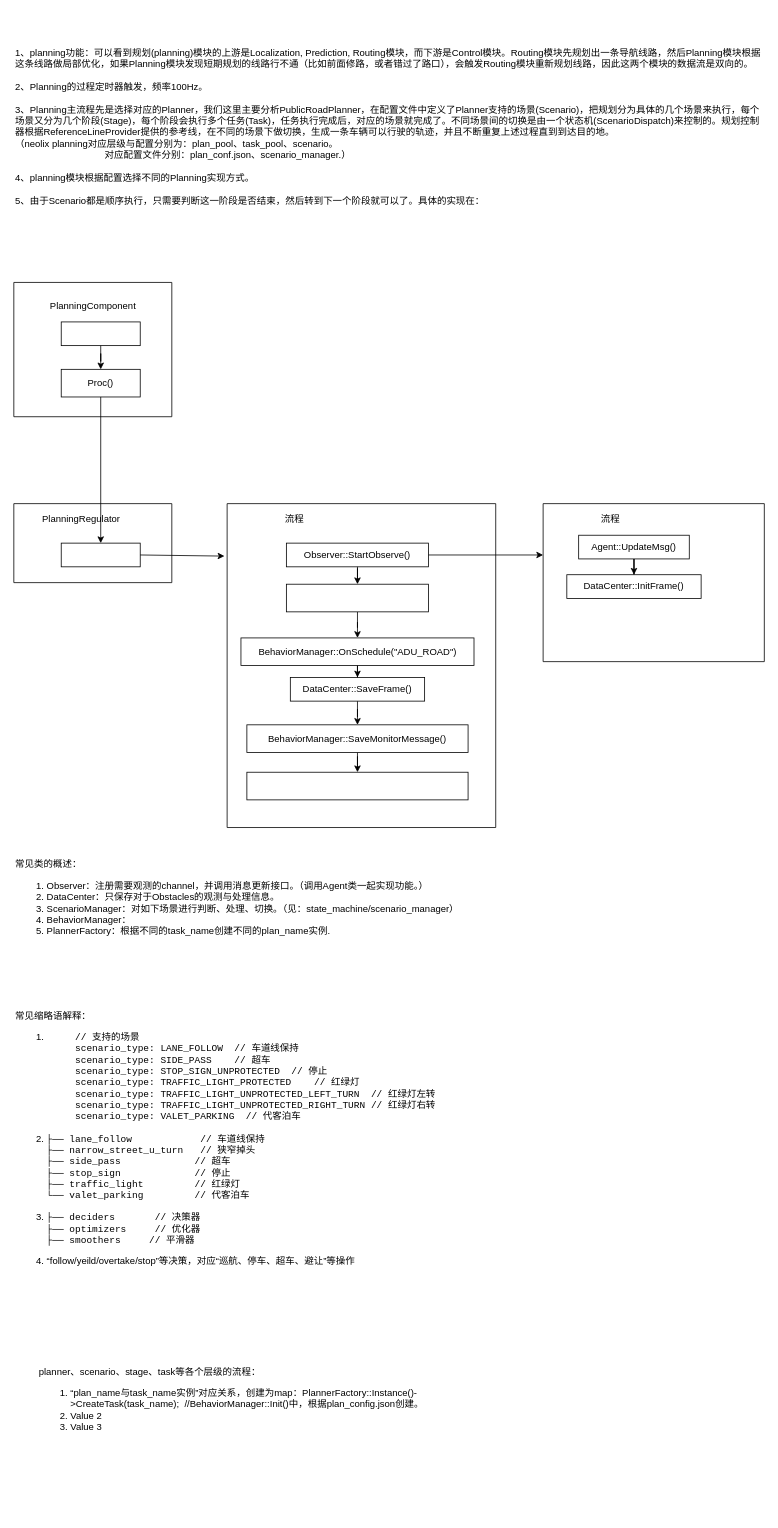
Some shapes in this 778 by 1528 pixel diagram are drawn without their labels. The centre of each missing label's shape, as x and y in pixels:
BehaviorManager::Reset(): (x=357, y=597)
init(): (x=100, y=333)
Process(): (x=100, y=554)
发布监控到的信息(write): (x=357, y=785)
